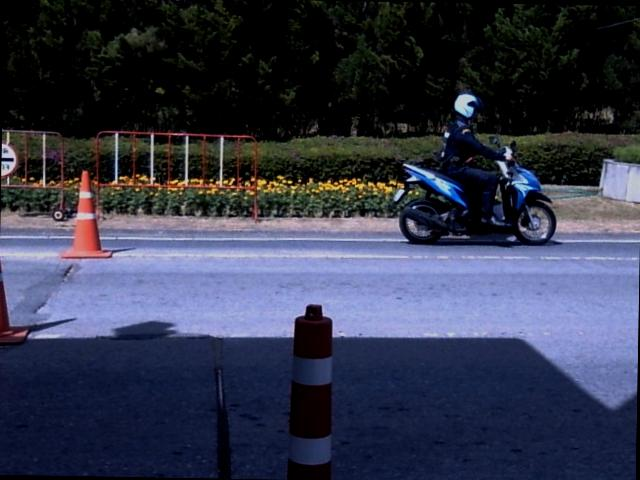helmet: (453, 88, 484, 119)
motor: (393, 160, 555, 244)
person: (440, 91, 511, 225)
